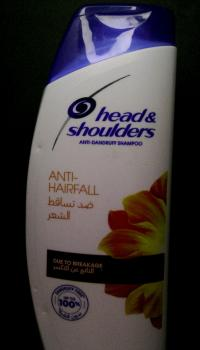dent_marginal: (31, 283, 43, 294), (34, 144, 46, 154), (39, 307, 51, 317)
